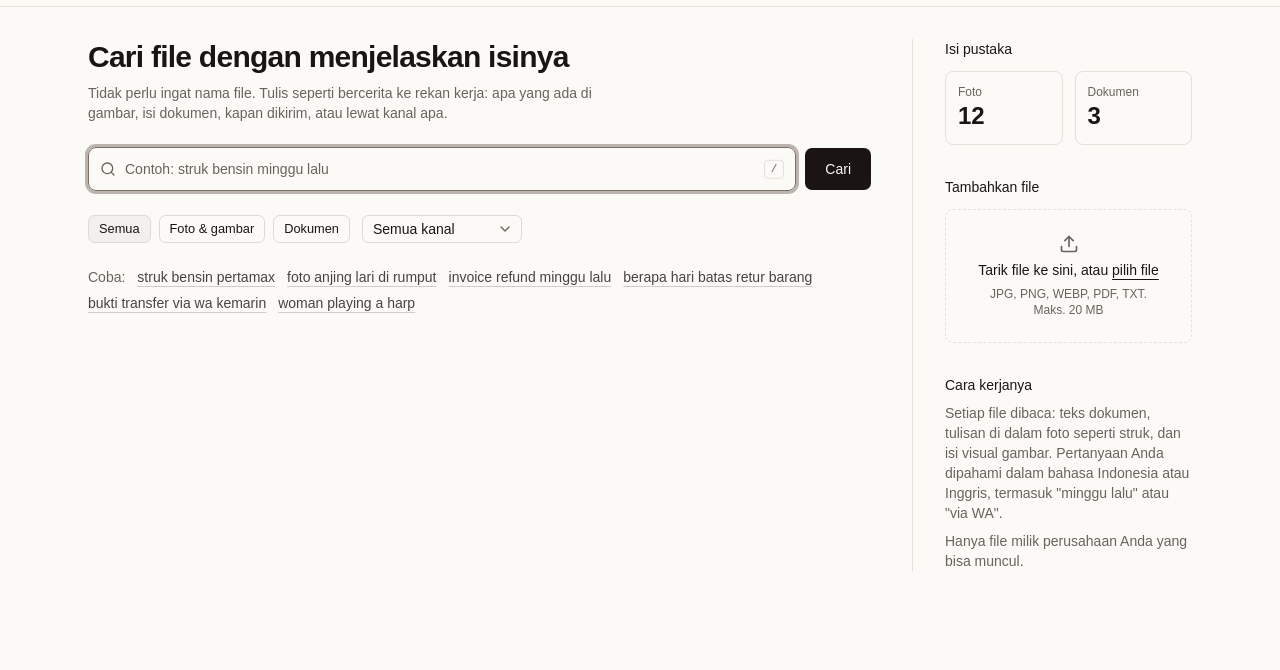
it: App › previews an image, and deletes after confirming
This screenshot has width=1280, height=670.
expect the text with test id "stat-image" reads "12": met, box [958,102,985,129]
Type "struk bensin" into the field with test id "search-input" at (442,169), box [88,147,796,191]
Then press Enter
(page scrolled)
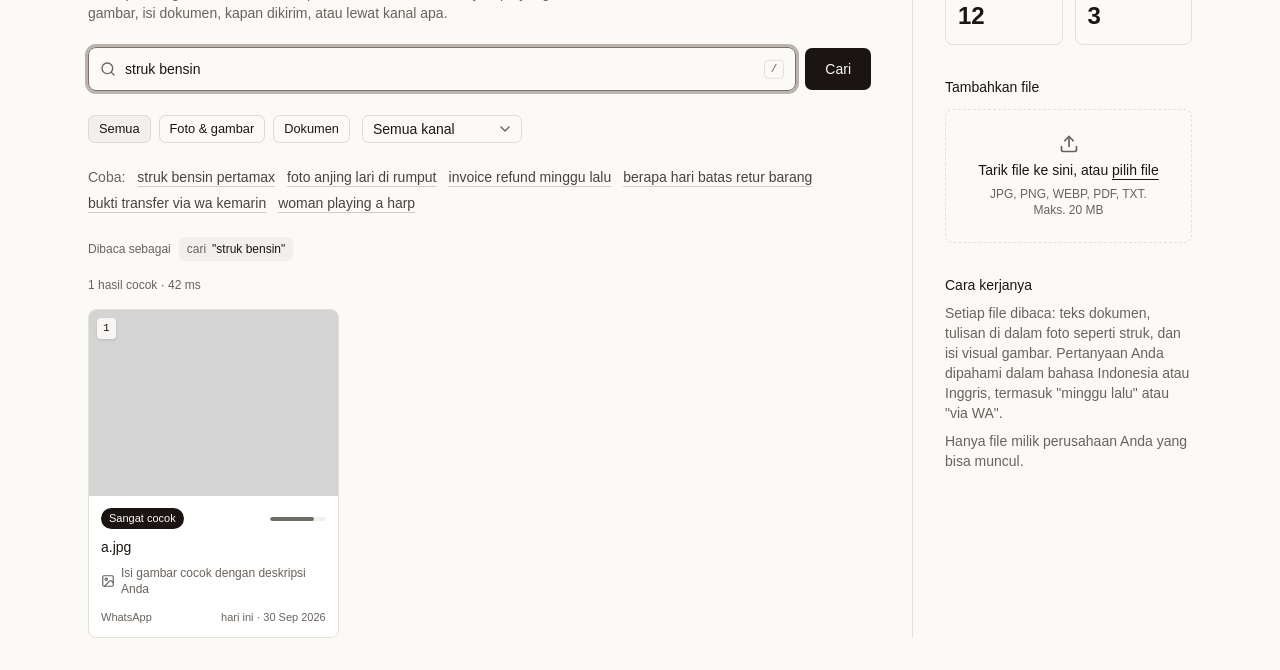
Click the button with test id "result-card" at (213,474), box [88,309,339,638]
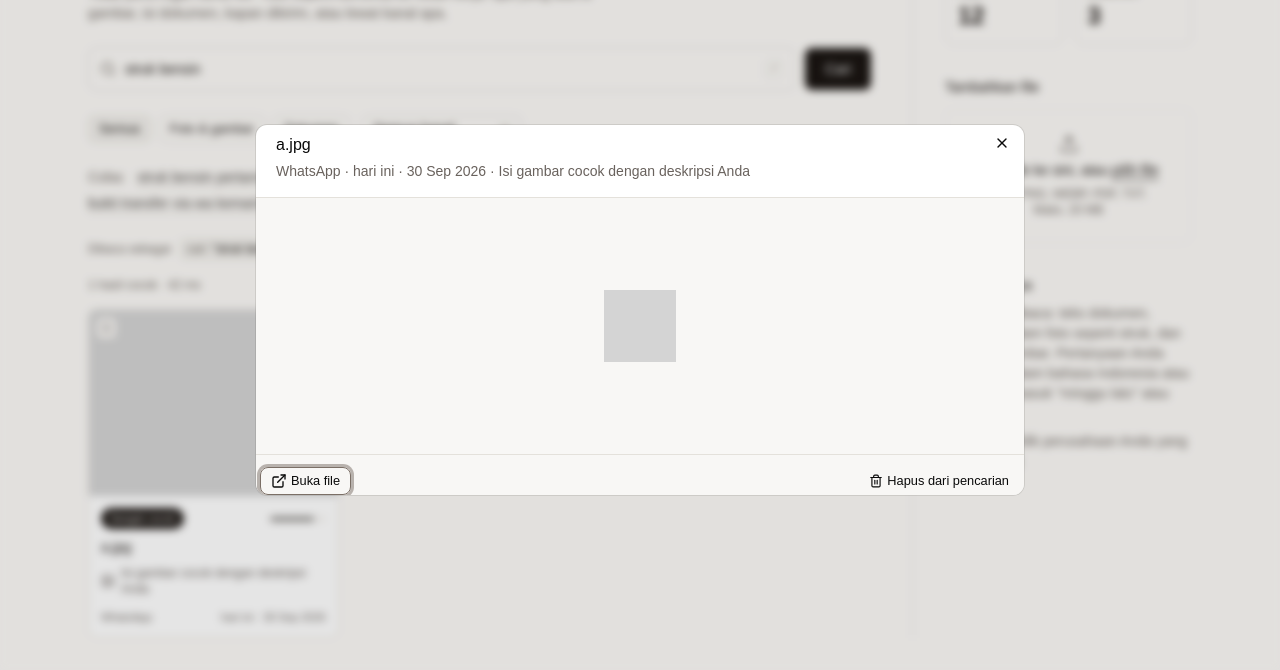
Click the button with test id "preview-delete" at (939,481), box [858,467,1020,495]
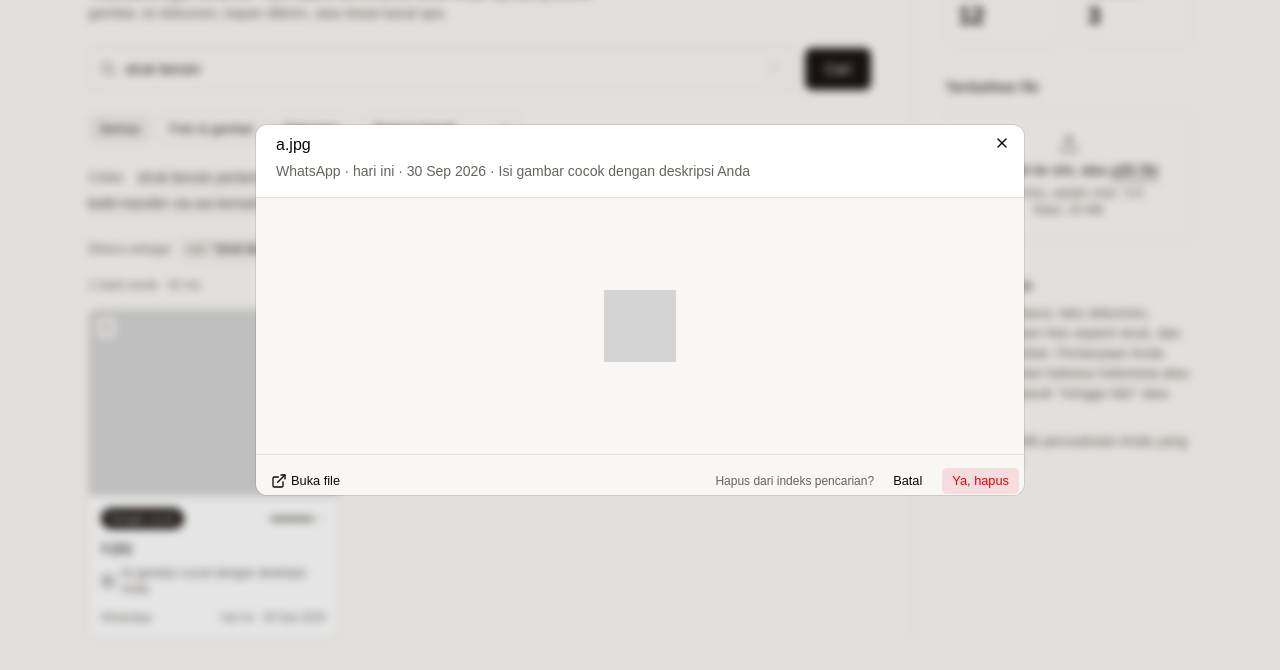
Click the button "Batal" at (908,481), box [882,467,933,495]
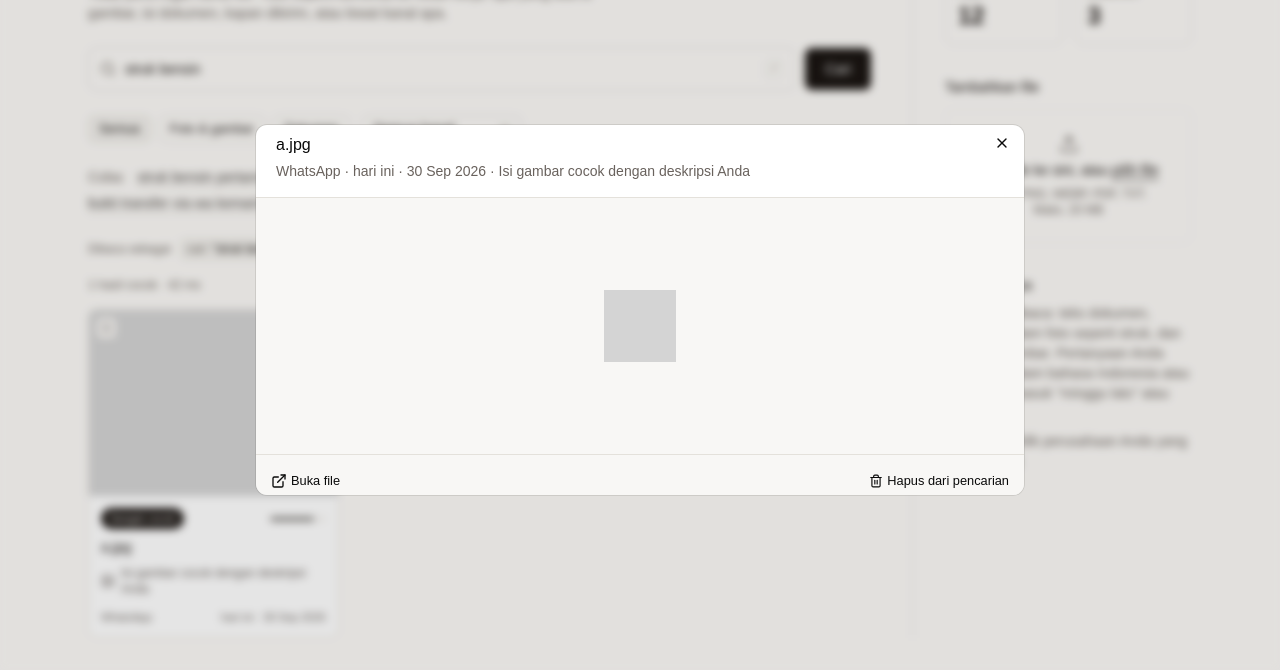
Click the button with test id "preview-delete" at (939,481), box [858,467,1020,495]
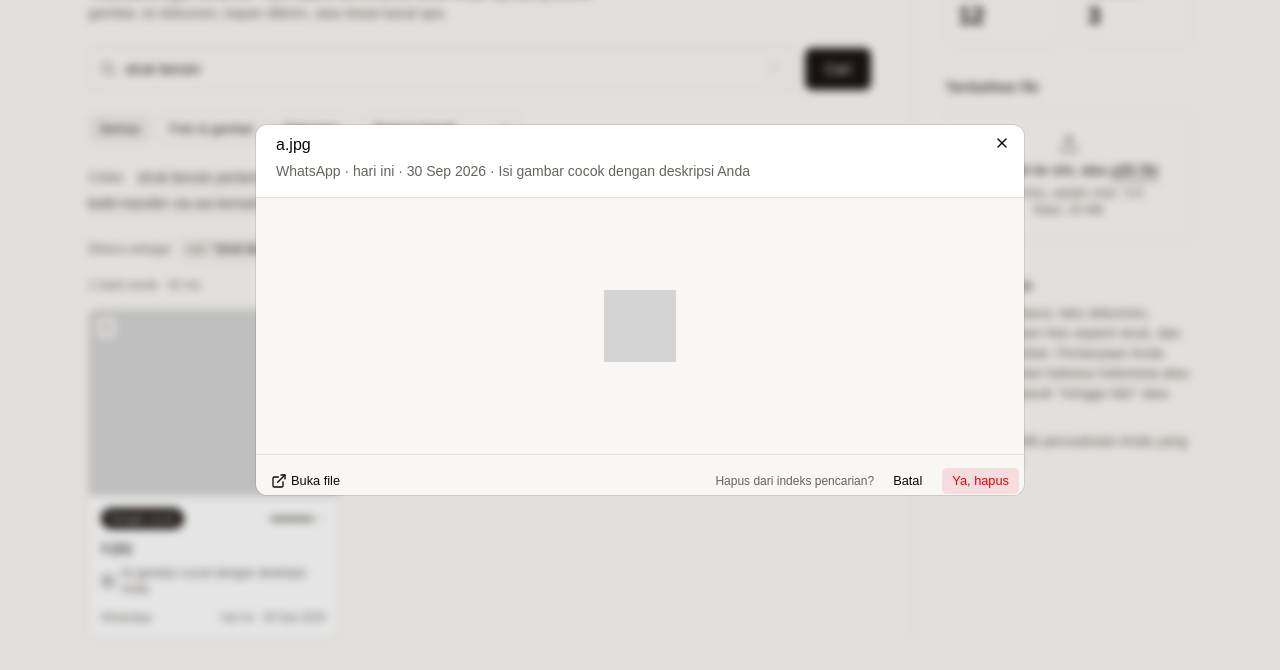
Click the button with test id "preview-delete-confirm" at (981,481), box [941,467,1020,495]
(page scrolled)
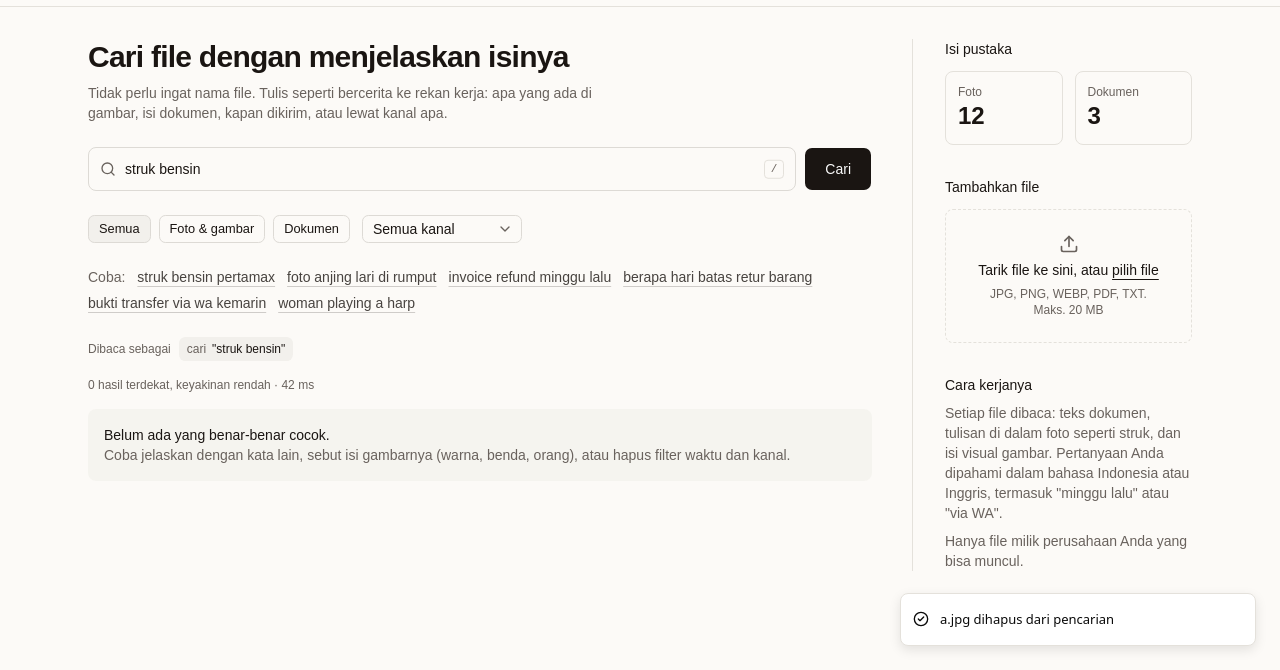
expect the dialog with test id "preview" is gone: met
expect the button with test id "result-card" is gone: met
